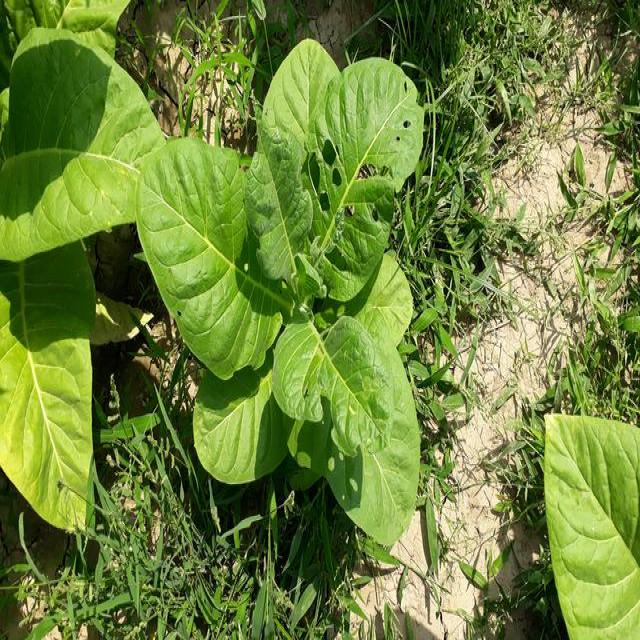crop: (165, 55, 430, 517), (2, 24, 152, 528), (545, 424, 640, 640)
